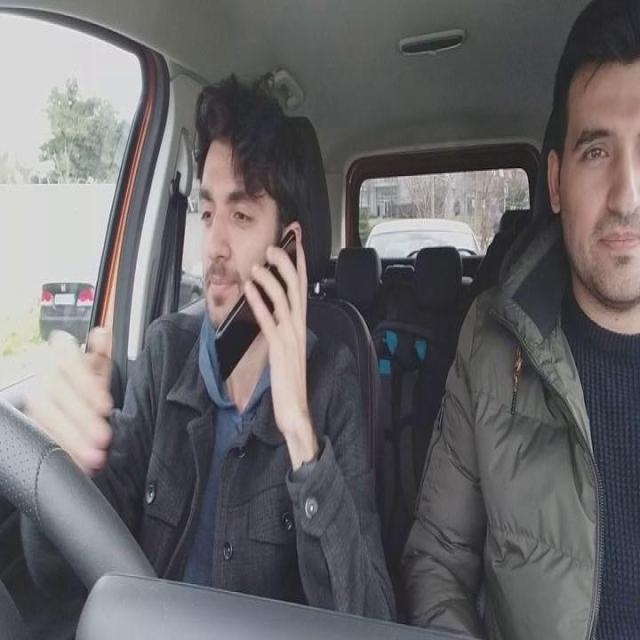phone: (216, 229, 302, 387)
